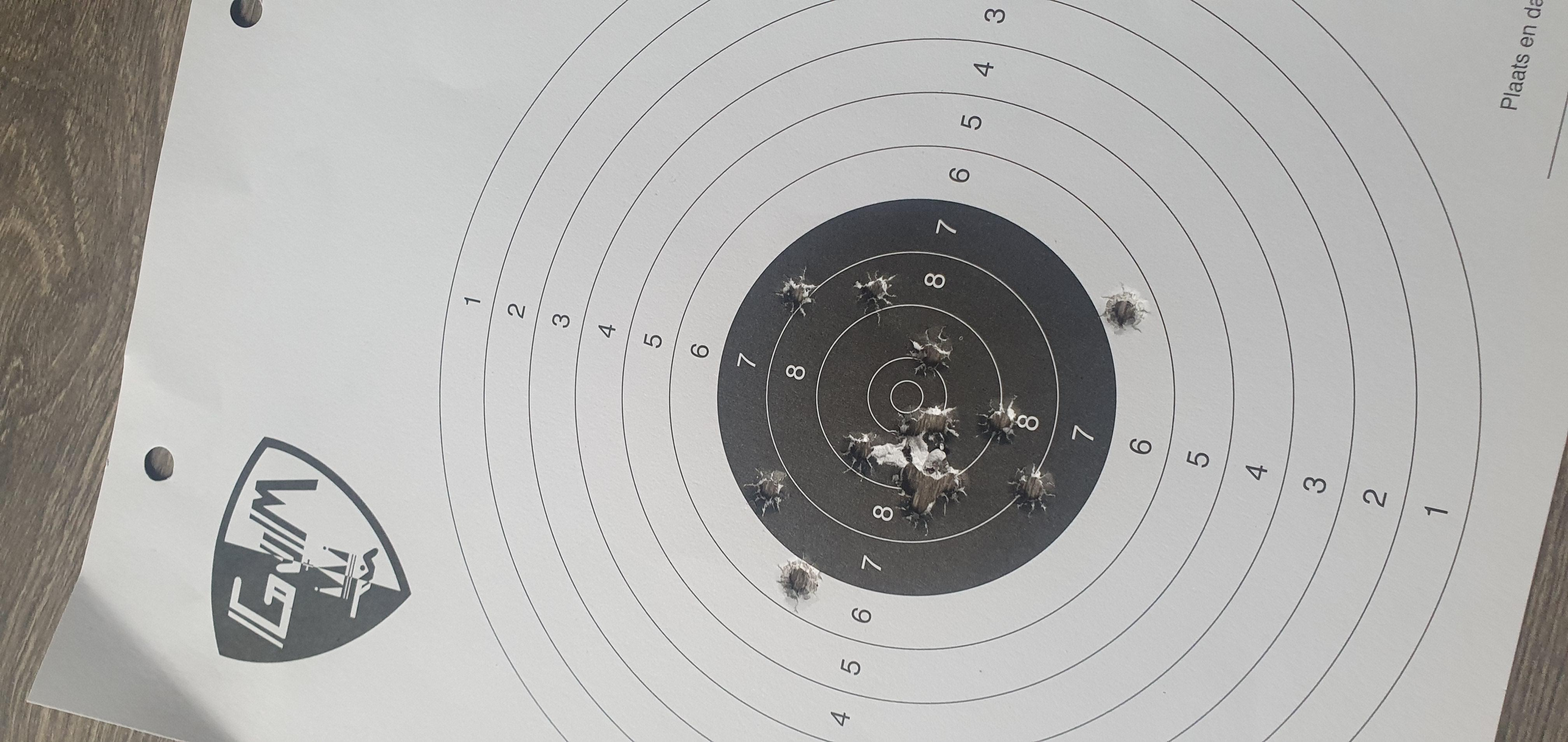hole: (742, 128, 794, 188), (415, 407, 472, 458), (508, 224, 559, 277), (543, 296, 594, 347), (777, 226, 827, 278), (611, 361, 660, 414), (671, 418, 715, 470), (755, 418, 792, 470), (688, 269, 726, 313), (627, 215, 666, 251), (614, 298, 649, 338), (598, 237, 635, 274), (636, 252, 674, 286), (644, 294, 676, 329)
